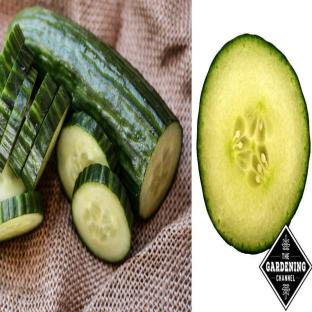Cucumber: (9, 8, 182, 218), (198, 35, 310, 253), (72, 164, 133, 262), (20, 86, 70, 191), (57, 112, 117, 198), (9, 74, 57, 176), (0, 68, 37, 171), (0, 192, 43, 241), (0, 25, 24, 94), (0, 163, 26, 201)
